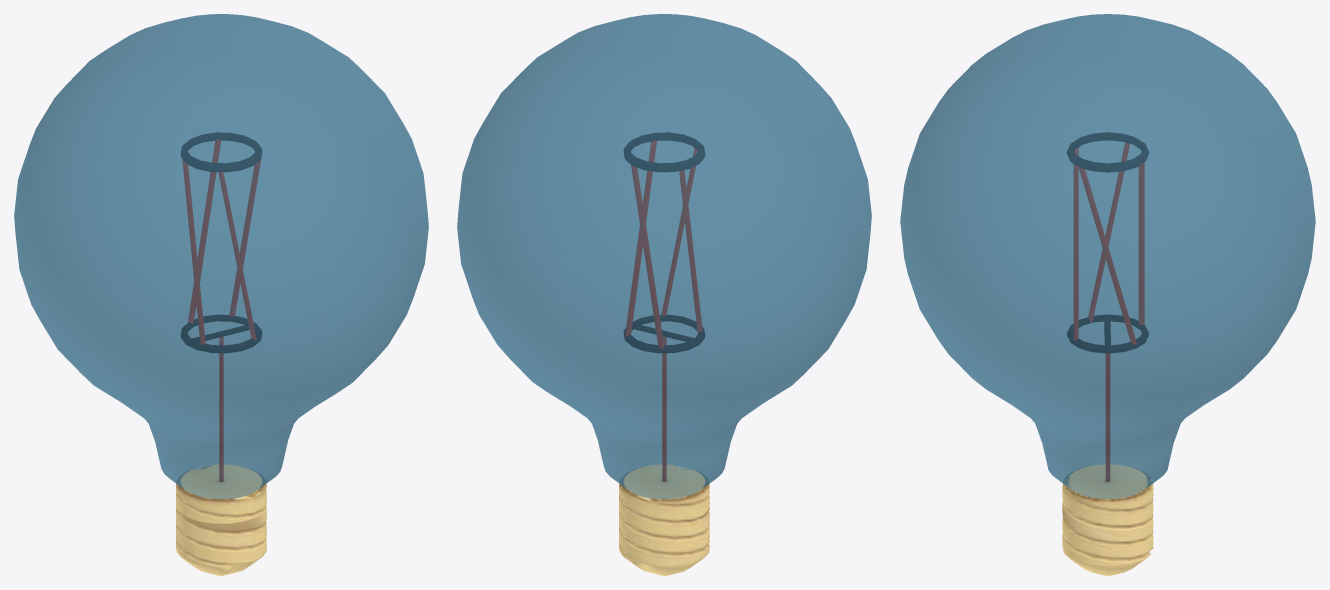
The model's file is e_bombilla_deco.glb.
The picture shows the model from 3 angles, left to right: view 1: azimuth 30°, elevation 25°; view 2: azimuth 150°, elevation 25°; view 3: azimuth 270°, elevation 25°; orthographic projection.
Parts seen in each view (by area): view 1: defaultMaterial; view 2: defaultMaterial; view 3: defaultMaterial.
Boxes of the visible parts, left/top/right/bottom form: defaultMaterial: left=14, top=14, right=428, bottom=575; defaultMaterial: left=457, top=14, right=871, bottom=575; defaultMaterial: left=900, top=14, right=1315, bottom=575.
Bounding box in the file's own units: 0.1118 × 0.16 × 0.1118.
Materials: 1 (1 with a texture image).
